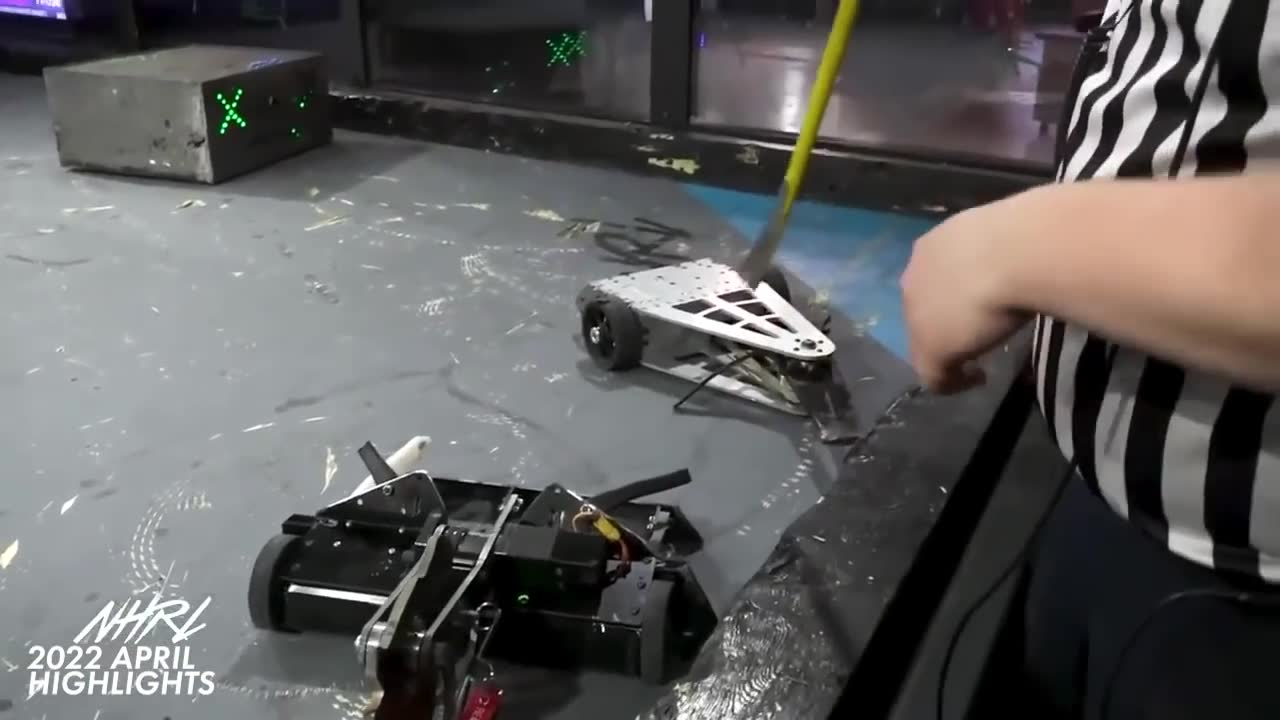combatbot: (251, 492, 713, 707), (575, 259, 838, 425)
housebot: (46, 46, 331, 186)
